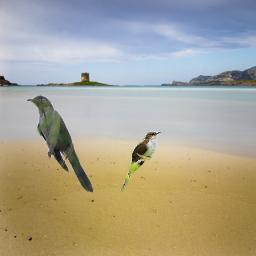Cuckoo: (27, 95, 97, 194), (120, 131, 161, 192)
